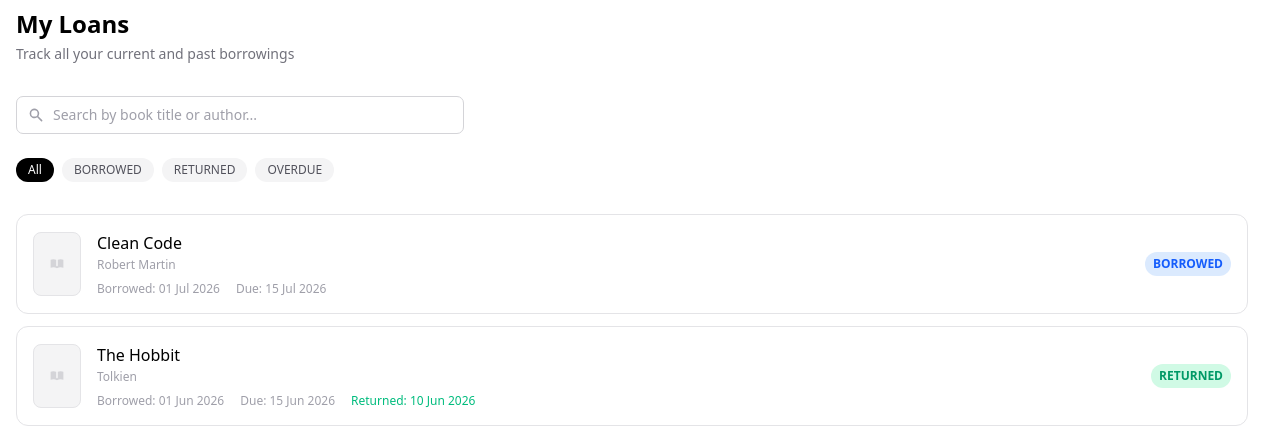
Test: LoansClient component › should clear filters
This screenshot has width=1265, height=443.
Type "Unknown" into the field with placeholder "Search by book title or author...".
click(240, 115); type("Unknown")  # box [16,96,464,134]
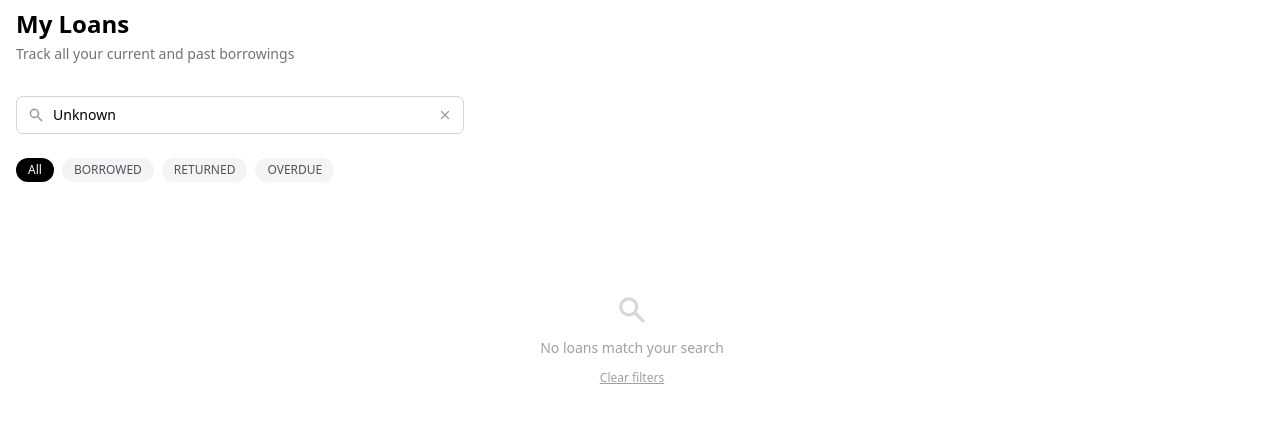
Result: the text "No loans match your search" is shown at [540,338,724,358]
Click the button "Clear filters".
click(632, 378)  # box [600,370,664,386]
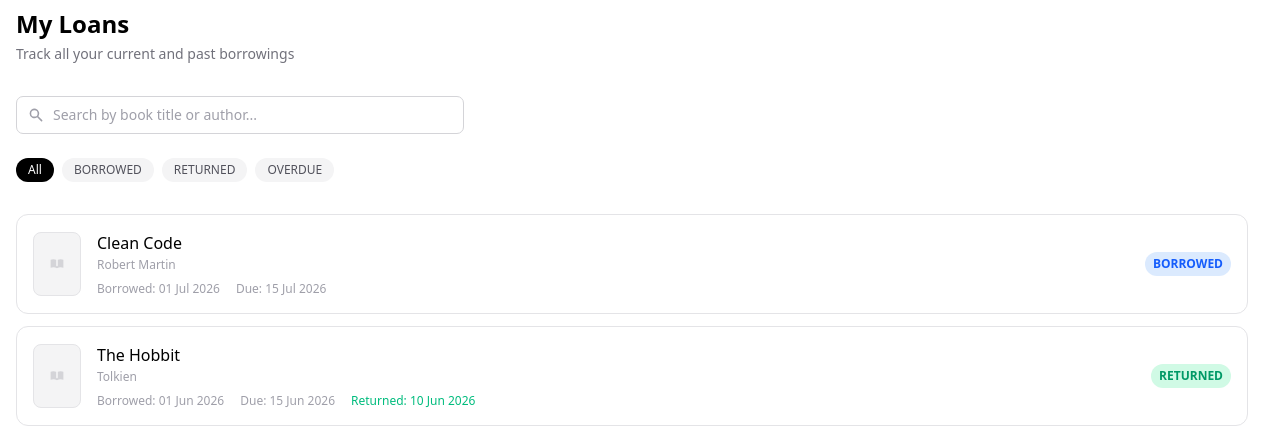
Result: the text "Clean Code" is shown at [97,232,182,254]
